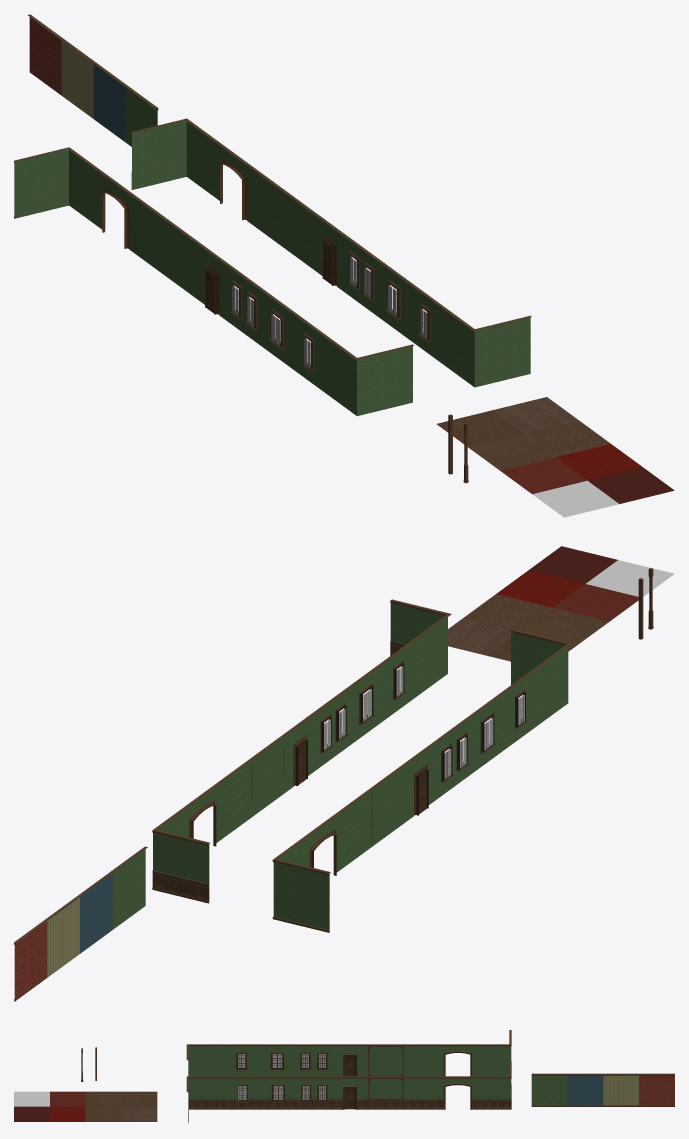
The model's file is WallPannels.fbx.
3 views of the same model, one above another, from view 1: azimuth 30°, elevation 25°; view 2: azimuth 150°, elevation 25°; view 3: azimuth 270°, elevation 25° (orthographic). The views are drawn at different scales.
Parts seen in each view (by area): view 1: WallCorner_In, Wall_Pannel_Corner_in, Wall_Pannel_Corner_Out, WallCorner_Out, Wall_Door, Wall_Pannel_Door, Wall_Orn, Wall_Pannel_Orn1, Wall_Pannel_Slim_Window, Wall_Pannel_Orn, WallPaper_3, WallPaper_4 (+18 smaller); view 2: Wall_Pannel_Corner_Out, WallCorner_Out, Wall_Pannel_Corner_in, WallCorner_In, WallPaper_4, WallPaper_1, Wall_Plain, Wall_Orn, Wall_Slim_Window, Wall_Window, Wall_Pannel_Double_Window, Wall_Pannel_Door (+17 smaller); view 3: Wall_Pannel_Corner_in, Wall_Pannel_Corner_Out, Wall_Pannel_Slim_Window, Wall_Pannel_Window, Wall_Pannel_Double_Window, WallPaper_2, WallPaper_1, WallCorner_In, WallCorner_Out, Wall_Pannel_Orn, Wall_Pannel_Door, Wall_Pannel_Orn1 (+18 smaller).
Boxes of the visible parts, left/top/right/bottom form: WallCorner_In: left=322, top=334, right=413, bottom=416; Wall_Pannel_Corner_in: left=440, top=306, right=531, bottom=387; Wall_Pannel_Corner_Out: left=131, top=118, right=218, bottom=199; WallCorner_Out: left=14, top=147, right=100, bottom=228; Wall_Door: left=194, top=241, right=228, bottom=321; Wall_Pannel_Door: left=312, top=212, right=346, bottom=292; Wall_Orn: left=162, top=217, right=196, bottom=298; Wall_Pannel_Orn1: left=248, top=165, right=282, bottom=246; Wall_Pannel_Slim_Window: left=408, top=282, right=442, bottom=363; Wall_Pannel_Orn: left=280, top=188, right=314, bottom=269; WallPaper_3: left=59, top=38, right=93, bottom=118; WallPaper_4: left=27, top=14, right=61, bottom=95; Wall_Pannel_Corner_Out: left=152, top=806, right=210, bottom=903; WallCorner_Out: left=272, top=836, right=330, bottom=932; Wall_Pannel_Corner_in: left=390, top=599, right=451, bottom=697; WallCorner_In: left=510, top=629, right=571, bottom=726; WallPaper_4: left=14, top=918, right=49, bottom=1001; WallPaper_1: left=112, top=846, right=147, bottom=929; Wall_Plain: left=338, top=788, right=373, bottom=870; Wall_Orn: left=371, top=764, right=406, bottom=846; Wall_Slim_Window: left=502, top=668, right=537, bottom=751; Wall_Window: left=469, top=692, right=504, bottom=774; Wall_Pannel_Double_Window: left=316, top=686, right=351, bottom=769; Wall_Pannel_Door: left=283, top=710, right=318, bottom=793; Wall_Pannel_Corner_in: left=186, top=1076, right=224, bottom=1123; Wall_Pannel_Corner_Out: left=475, top=1062, right=511, bottom=1109; Wall_Pannel_Slim_Window: left=224, top=1076, right=260, bottom=1109; Wall_Pannel_Window: left=260, top=1076, right=296, bottom=1109; Wall_Pannel_Double_Window: left=296, top=1076, right=332, bottom=1109; WallPaper_2: left=567, top=1073, right=603, bottom=1106; WallPaper_1: left=531, top=1073, right=567, bottom=1106; WallCorner_In: left=186, top=1044, right=224, bottom=1076; WallCorner_Out: left=475, top=1030, right=511, bottom=1076; Wall_Pannel_Orn: left=368, top=1076, right=403, bottom=1109; Wall_Pannel_Door: left=332, top=1076, right=367, bottom=1109; Wall_Pannel_Orn1: left=404, top=1076, right=439, bottom=1109.
Size of the model in its own units: 1236 by 304 by 5529.
